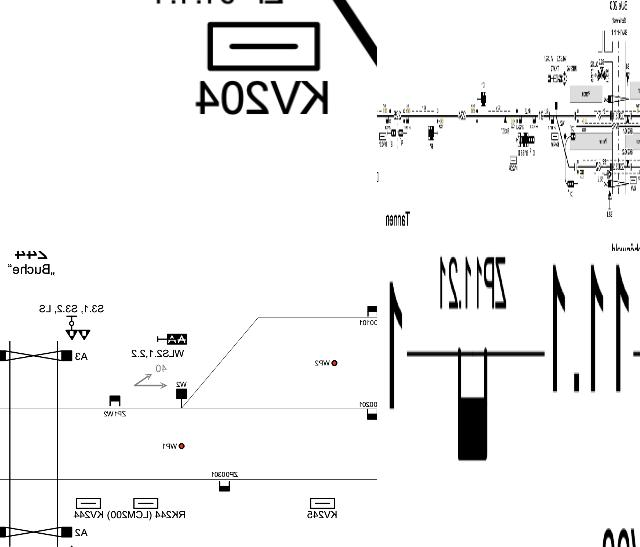mainsignal: (568, 180, 574, 190)
radzaehler: (452, 325, 493, 479), (361, 301, 377, 322), (106, 392, 124, 410), (216, 477, 232, 495), (363, 406, 377, 424), (385, 114, 389, 126), (550, 114, 554, 125), (532, 114, 536, 125), (518, 114, 522, 125), (405, 114, 409, 125)
trackjoint: (573, 162, 577, 174), (572, 111, 576, 121), (629, 112, 632, 120), (610, 163, 612, 172), (610, 111, 612, 120), (630, 163, 632, 170)
tracknumber: (538, 254, 638, 409), (457, 111, 467, 124), (393, 108, 401, 122), (594, 110, 600, 121), (595, 161, 601, 172), (538, 111, 544, 120)
weiche: (172, 384, 190, 416), (554, 100, 558, 117)
